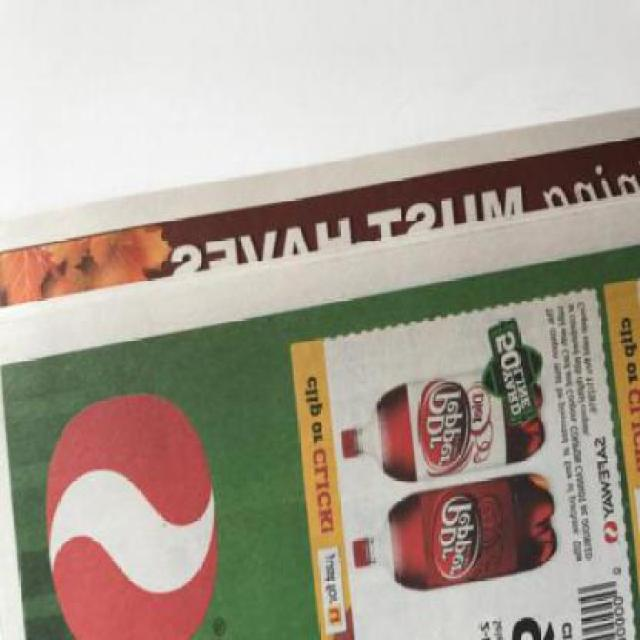PAPER: (0, 109, 638, 638)
